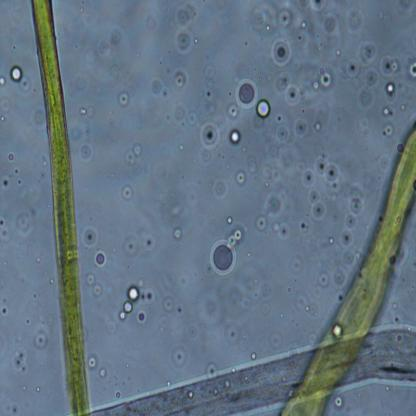Background material: (204, 229, 243, 277), (161, 184, 201, 228), (118, 275, 153, 325), (235, 275, 275, 316), (301, 151, 339, 191), (341, 42, 379, 80), (246, 0, 279, 39), (119, 231, 162, 260), (191, 123, 221, 163), (264, 35, 291, 75), (358, 68, 379, 108), (168, 102, 199, 129), (233, 78, 258, 111), (274, 74, 300, 104), (172, 4, 200, 31), (258, 156, 280, 186), (147, 74, 170, 102), (293, 292, 317, 318), (172, 28, 198, 52), (80, 223, 102, 251), (391, 0, 416, 24), (122, 141, 145, 167), (168, 65, 190, 91), (10, 66, 31, 93), (222, 318, 242, 346), (12, 346, 30, 376), (308, 190, 326, 218), (12, 208, 33, 232), (291, 0, 328, 13), (380, 53, 399, 78), (322, 10, 343, 32), (140, 10, 161, 32), (317, 63, 334, 90), (210, 174, 229, 198), (85, 271, 101, 298), (344, 10, 364, 31), (117, 84, 136, 106), (267, 328, 284, 352), (32, 328, 50, 350), (204, 63, 215, 99), (0, 214, 13, 244), (278, 9, 294, 33), (256, 98, 271, 122), (287, 254, 304, 275), (172, 344, 188, 366), (102, 316, 118, 338), (274, 220, 290, 241), (78, 140, 93, 162), (380, 122, 398, 140), (94, 37, 111, 55), (331, 267, 347, 286), (273, 124, 291, 140), (351, 191, 363, 215), (206, 298, 220, 318), (268, 193, 282, 213), (94, 248, 108, 268), (244, 152, 257, 173), (377, 104, 395, 119), (382, 79, 397, 97), (204, 360, 218, 379), (229, 126, 242, 146), (314, 271, 329, 288), (294, 119, 309, 136), (31, 109, 46, 126), (0, 170, 13, 189), (255, 214, 267, 234), (161, 295, 175, 312), (186, 322, 198, 341), (78, 105, 94, 119), (295, 218, 309, 233), (121, 184, 133, 201), (339, 231, 353, 245), (6, 400, 19, 415), (235, 168, 247, 184), (0, 95, 11, 112), (87, 353, 98, 370), (70, 127, 85, 139), (344, 216, 358, 228), (174, 303, 185, 318), (158, 315, 169, 330), (38, 168, 49, 183), (98, 365, 109, 380), (0, 297, 9, 315), (407, 60, 416, 78), (109, 64, 119, 79), (172, 228, 182, 242), (230, 104, 240, 118), (112, 30, 121, 45), (312, 78, 320, 92), (105, 171, 116, 180), (294, 31, 303, 42), (346, 250, 353, 264), (108, 116, 115, 128), (7, 153, 15, 163), (329, 234, 335, 246), (314, 120, 320, 132), (250, 352, 257, 362), (164, 380, 172, 388), (41, 159, 49, 167), (275, 114, 282, 123), (0, 76, 7, 85), (14, 166, 21, 175), (391, 303, 398, 311), (16, 178, 23, 186), (115, 390, 120, 400), (226, 216, 233, 223), (36, 256, 42, 264), (124, 360, 130, 368), (49, 277, 55, 285), (24, 318, 30, 326), (401, 101, 406, 110), (12, 44, 18, 51), (286, 286, 293, 292), (35, 386, 41, 393), (0, 115, 6, 122), (2, 260, 8, 266), (395, 316, 400, 323), (79, 6, 84, 13), (113, 374, 118, 380), (22, 384, 27, 390), (32, 292, 36, 299), (136, 387, 140, 393), (114, 383, 117, 387), (82, 1, 86, 4)
Microfibre: (283, 127, 416, 416), (89, 319, 416, 416), (29, 0, 92, 416)
